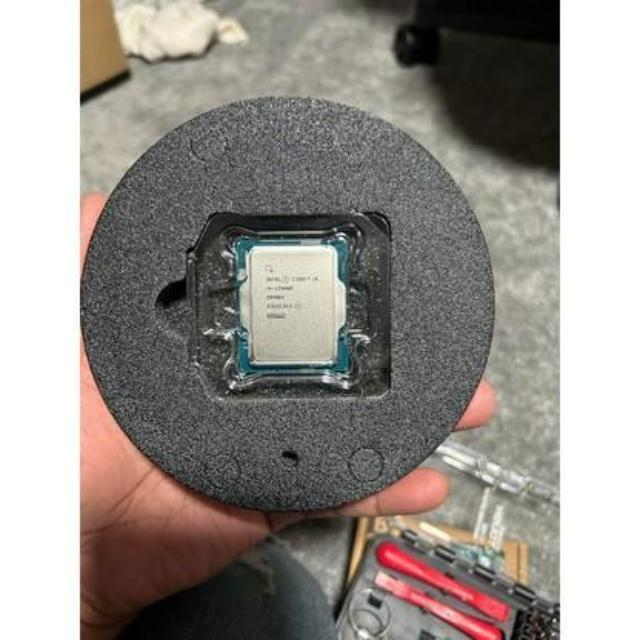CPU: (234, 238, 346, 376)
